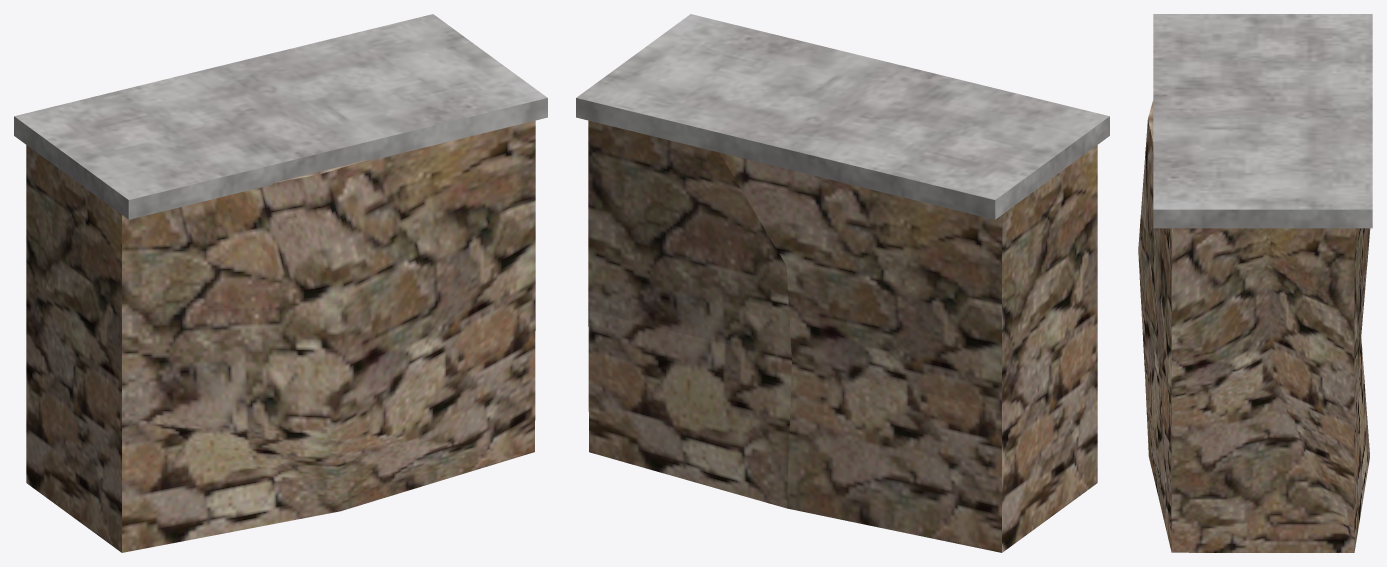
The model's file is Urban_DrystoneWallHalfCapped_Model.fbx.
The picture shows the model from 3 angles, left to right: view 1: azimuth 30°, elevation 25°; view 2: azimuth 150°, elevation 25°; view 3: azimuth 270°, elevation 25°; orthographic projection. The views are drawn at different scales.
Visible parts, largest first — view 1: Urban_DrystoneWallHalfCapped_Mesh; view 2: Urban_DrystoneWallHalfCapped_Mesh; view 3: Urban_DrystoneWallHalfCapped_Mesh.
Boxes of the visible parts, x1,y1,x2,y2 form: Urban_DrystoneWallHalfCapped_Mesh: (14,14,547,552); Urban_DrystoneWallHalfCapped_Mesh: (576,14,1109,552); Urban_DrystoneWallHalfCapped_Mesh: (1138,14,1372,552).
Bounding box in the file's own units: 1.01 × 0.8328 × 0.5133.
